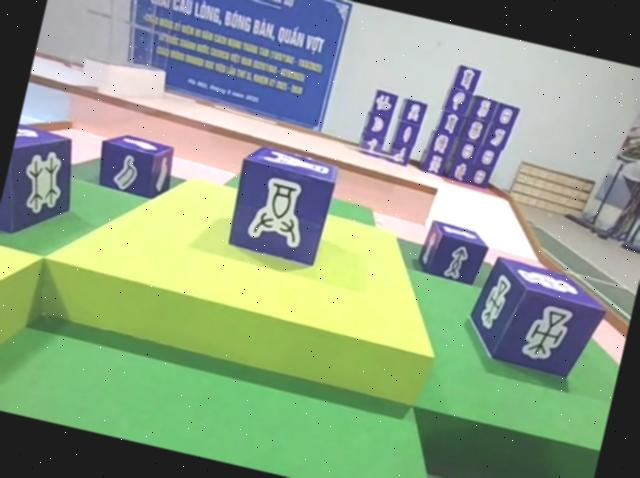R2 Real Blue: (463, 256, 614, 388), (224, 145, 343, 271), (0, 123, 83, 246), (93, 132, 179, 206), (415, 219, 492, 289)
